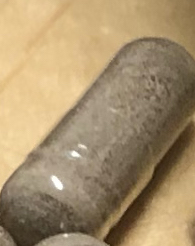capsule: (1, 36, 194, 246)
